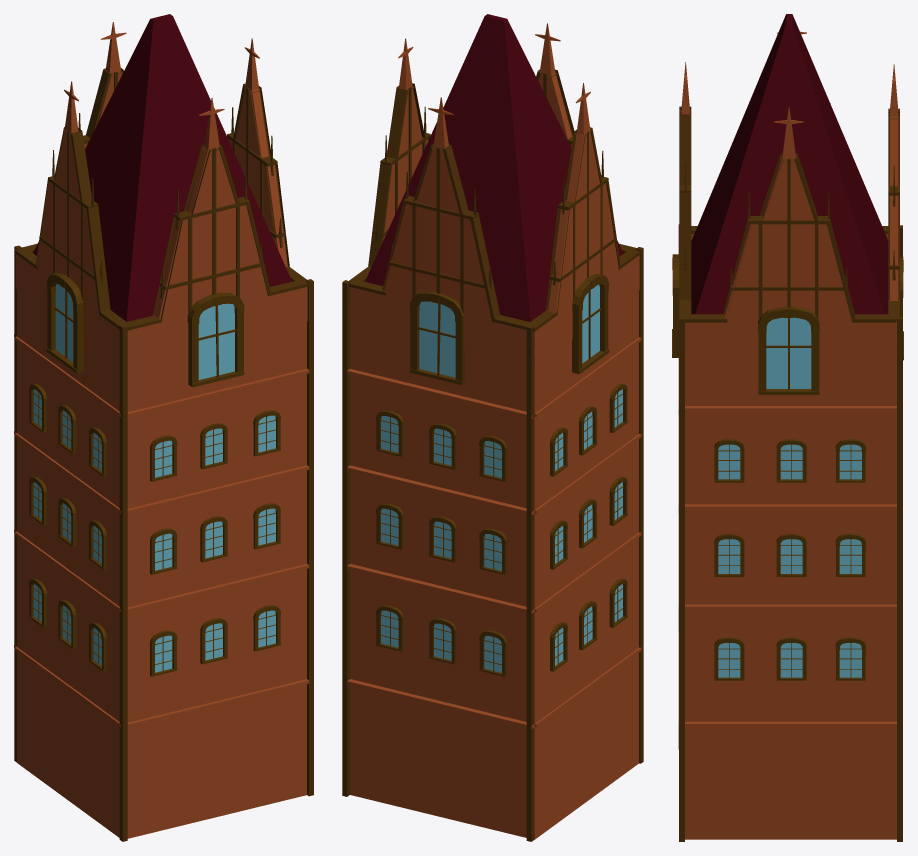
Rendered from ratuszW.fbx.
3 renders of one model, left to right at view 1: azimuth 30°, elevation 25°; view 2: azimuth 150°, elevation 25°; view 3: azimuth 270°, elevation 25°, orthographic.
Parts seen in each view (by area): view 1: Cube.001, Cube.020, Cube.016, Cube.018, Cube.011, Cube.005, Cube.197, Cube.022, Cube.015, Cube.024, Cube.023, Cube.006 (+26 smaller); view 2: Cube.001, Cube.020, Cube.028, Cube.011, Cube.015, Cube.021, Cube.018, Cube.005, Cube.099, Cube.014, Cube.197, Cube.221 (+25 smaller); view 3: Cube.001, Cube.020, Cube.197, Cube.015, Cube.021, Cube.022, Cube.239, Cube.018, Cube.034, Cube.033, Cube.180, Cube.028 (+11 smaller).
Part boxes in pixels (x1,y1,x2,y2): Cube.001: (17, 290, 306, 838); Cube.020: (33, 14, 291, 321); Cube.016: (127, 98, 307, 364); Cube.018: (14, 127, 308, 330); Cube.011: (15, 81, 119, 364); Cube.005: (119, 324, 127, 841); Cube.197: (229, 38, 287, 267); Cube.022: (306, 279, 313, 796); Cube.015: (15, 68, 306, 281); Cube.024: (198, 303, 234, 379); Cube.023: (187, 292, 244, 387); Cube.006: (127, 564, 309, 727); Cube.001: (350, 291, 638, 839); Cube.020: (365, 14, 623, 321); Cube.028: (349, 97, 534, 365); Cube.011: (534, 83, 639, 366); Cube.015: (349, 83, 539, 331); Cube.021: (342, 280, 534, 841); Cube.018: (530, 69, 640, 331); Cube.005: (636, 247, 643, 763); Cube.099: (347, 564, 534, 728); Cube.014: (419, 301, 455, 377); Cube.197: (350, 38, 428, 291); Cube.221: (409, 291, 464, 384); Cube.001: (685, 358, 896, 839); Cube.020: (691, 14, 888, 314); Cube.197: (685, 107, 896, 357); Cube.015: (685, 108, 899, 322); Cube.021: (897, 225, 902, 841); Cube.022: (679, 317, 684, 841); Cube.239: (766, 317, 811, 388); Cube.018: (679, 103, 888, 319); Cube.034: (685, 604, 896, 727); Cube.033: (685, 406, 896, 509); Cube.180: (758, 306, 819, 394); Cube.028: (890, 64, 898, 343).
Bounding box in the file's own units: 308 × 1129 × 306.
141 materials, 141 textured.
